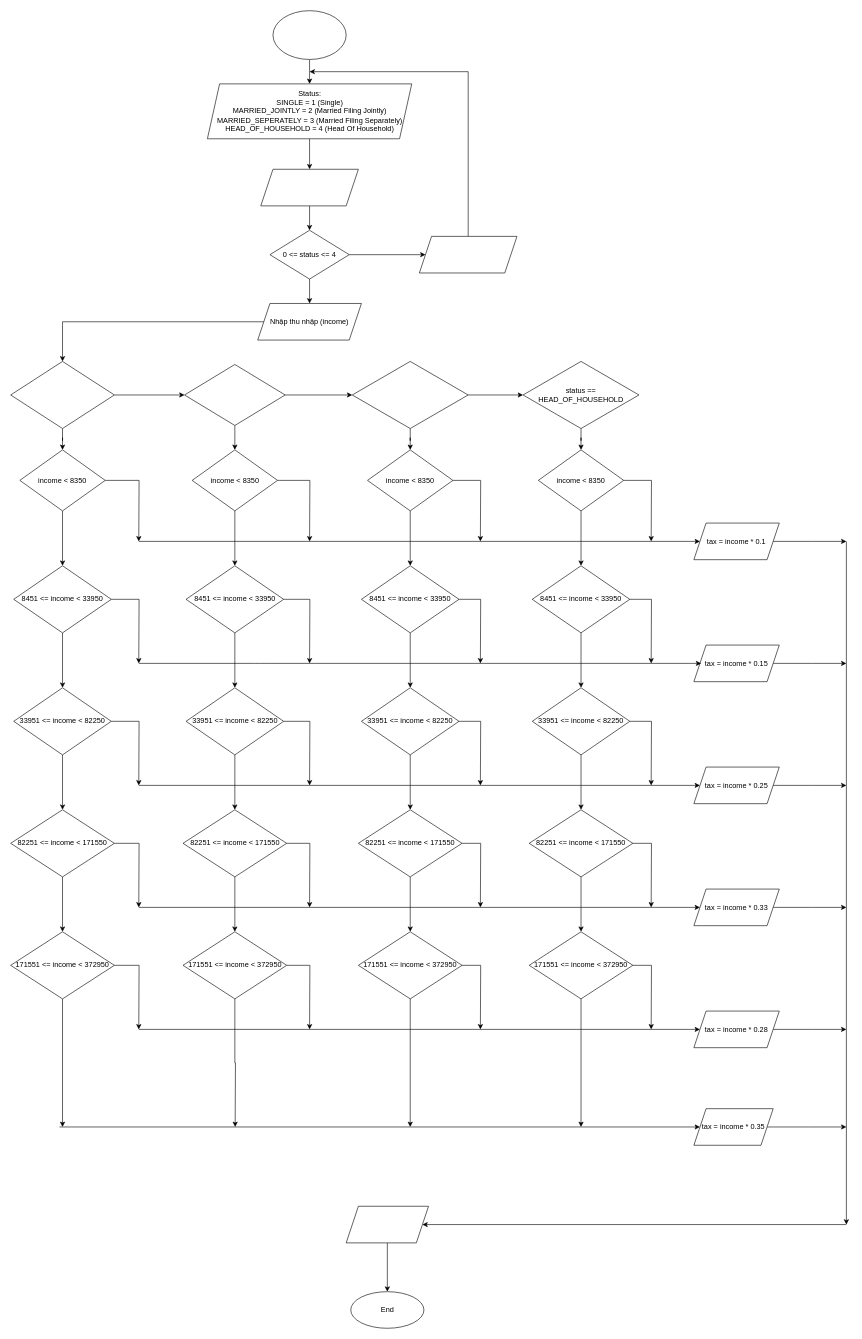
This 862x1339 diagram has some shape labels left out. Each missing label, with the box of its shape:
Begin: (272, 10, 346, 59)
Nhập chỉ số status: (260, 169, 358, 206)
Print Tax: (346, 1206, 429, 1243)
Sai status - nhập lại: (419, 236, 517, 273)
status == MARRIED_JOINTLY: (184, 364, 285, 425)
status == MARRIED_SEPERATELY: (352, 361, 468, 429)
status == SINGLE: (10, 361, 114, 429)
